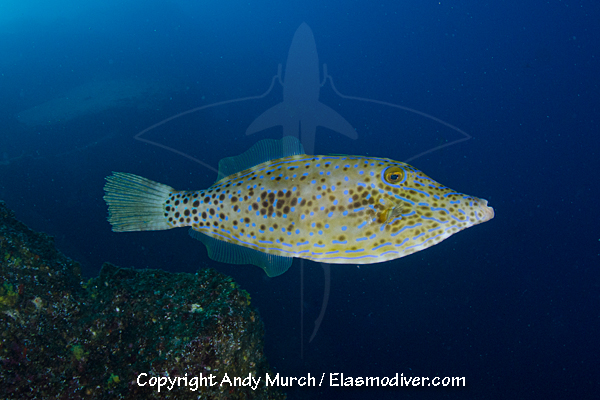Aluterus_scriptus: (96, 133, 502, 282)
